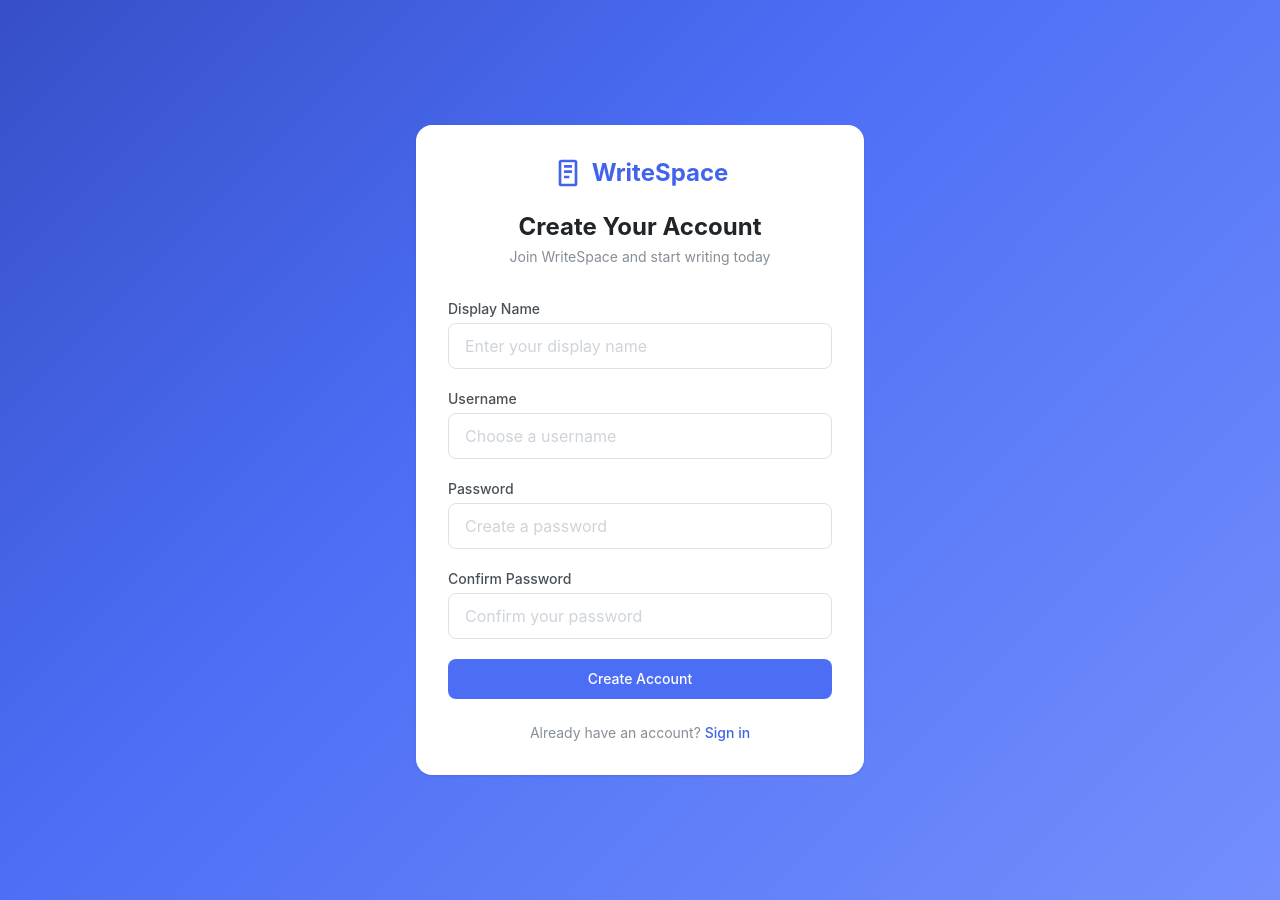
Test case: RegisterPage › validation errors › displays a generic error when registration returns no error string
In the field labelled "Display Name": {"x": 640, "y": 346} [448,323,832,369], type "Bob"
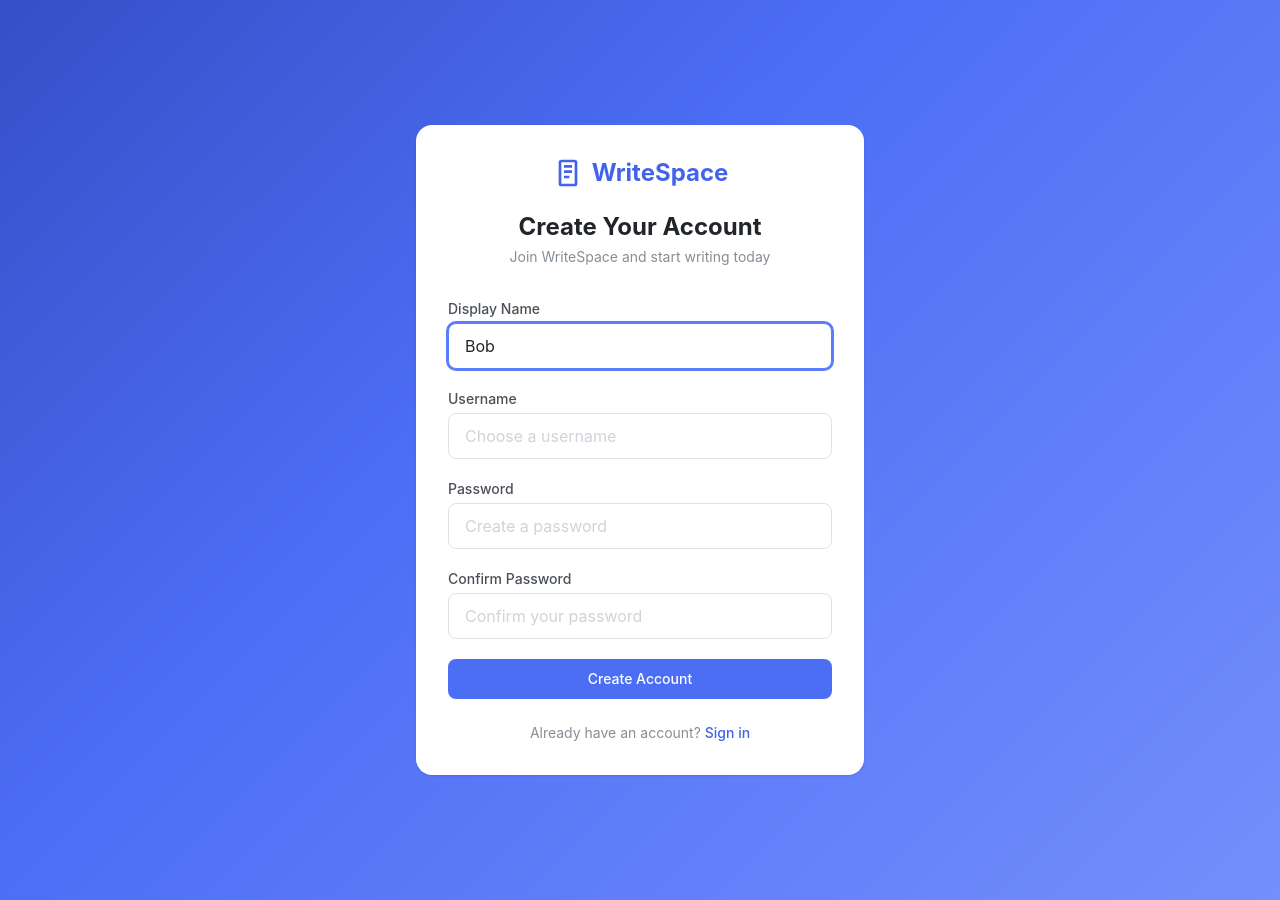
In the field labelled "Username": {"x": 640, "y": 436} [448,413,832,459], type "bob"
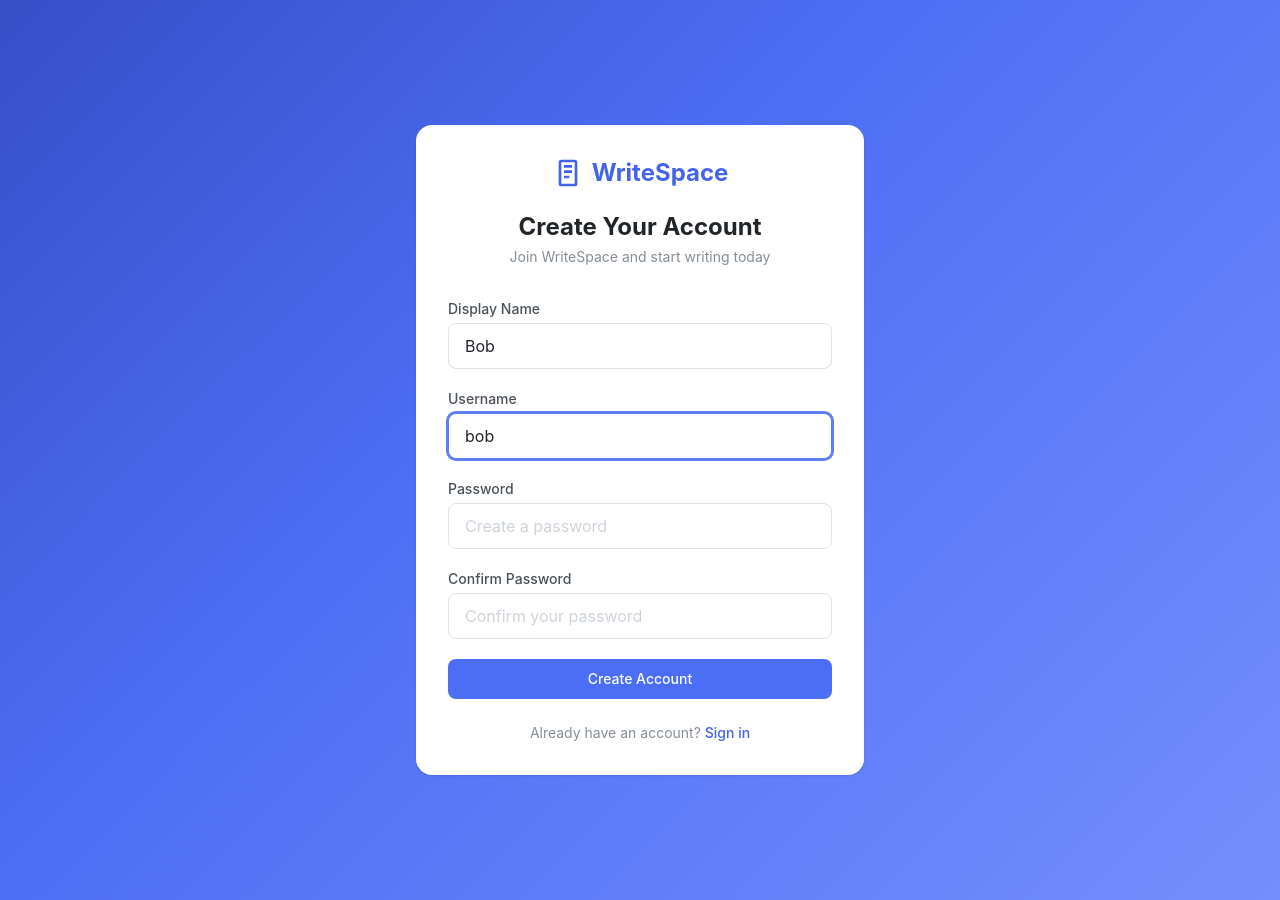
In the password field labelled "Password": {"x": 640, "y": 526} [448,503,832,549], type "password123"
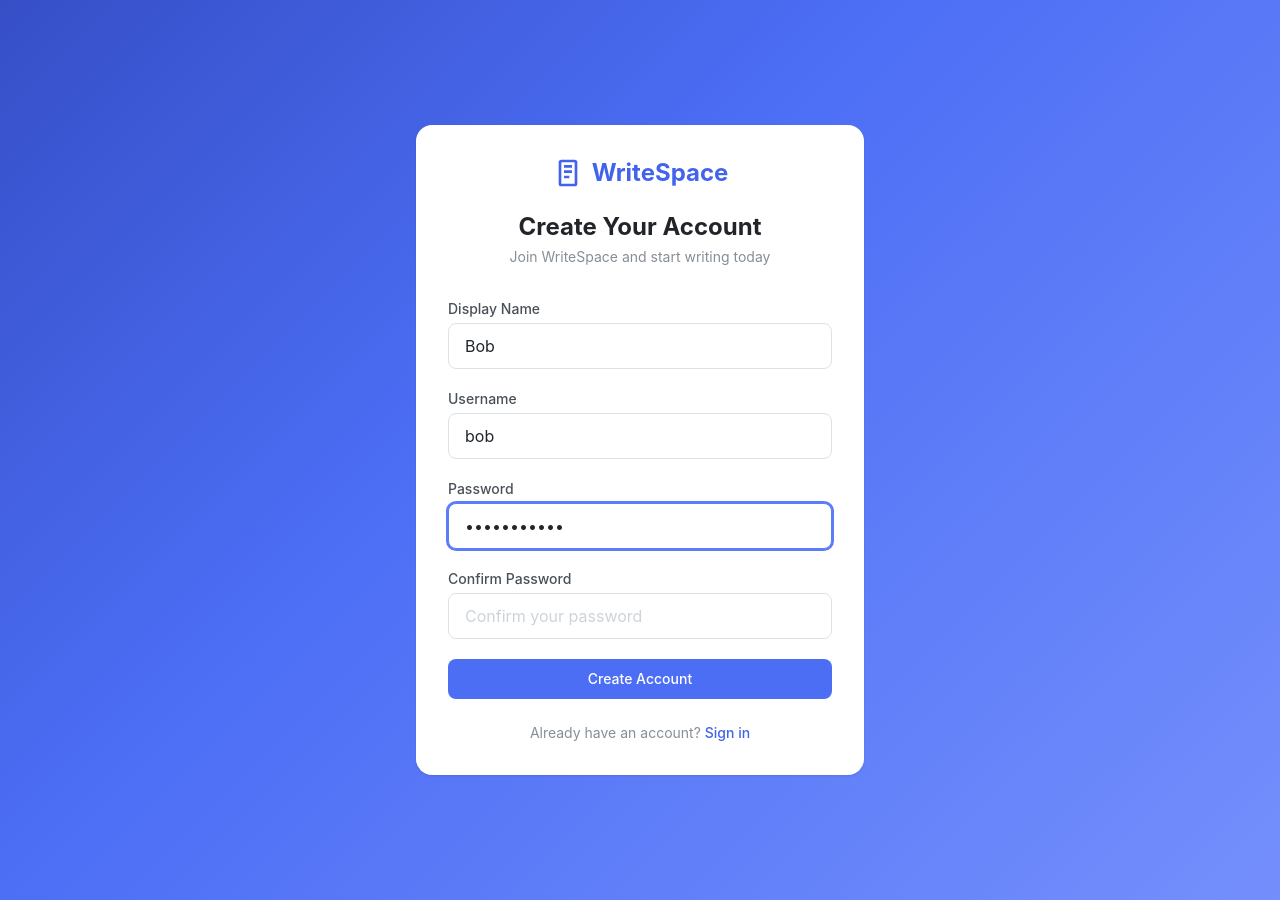
In the password field labelled "Confirm Password": {"x": 640, "y": 616} [448,593,832,639], type "password123"
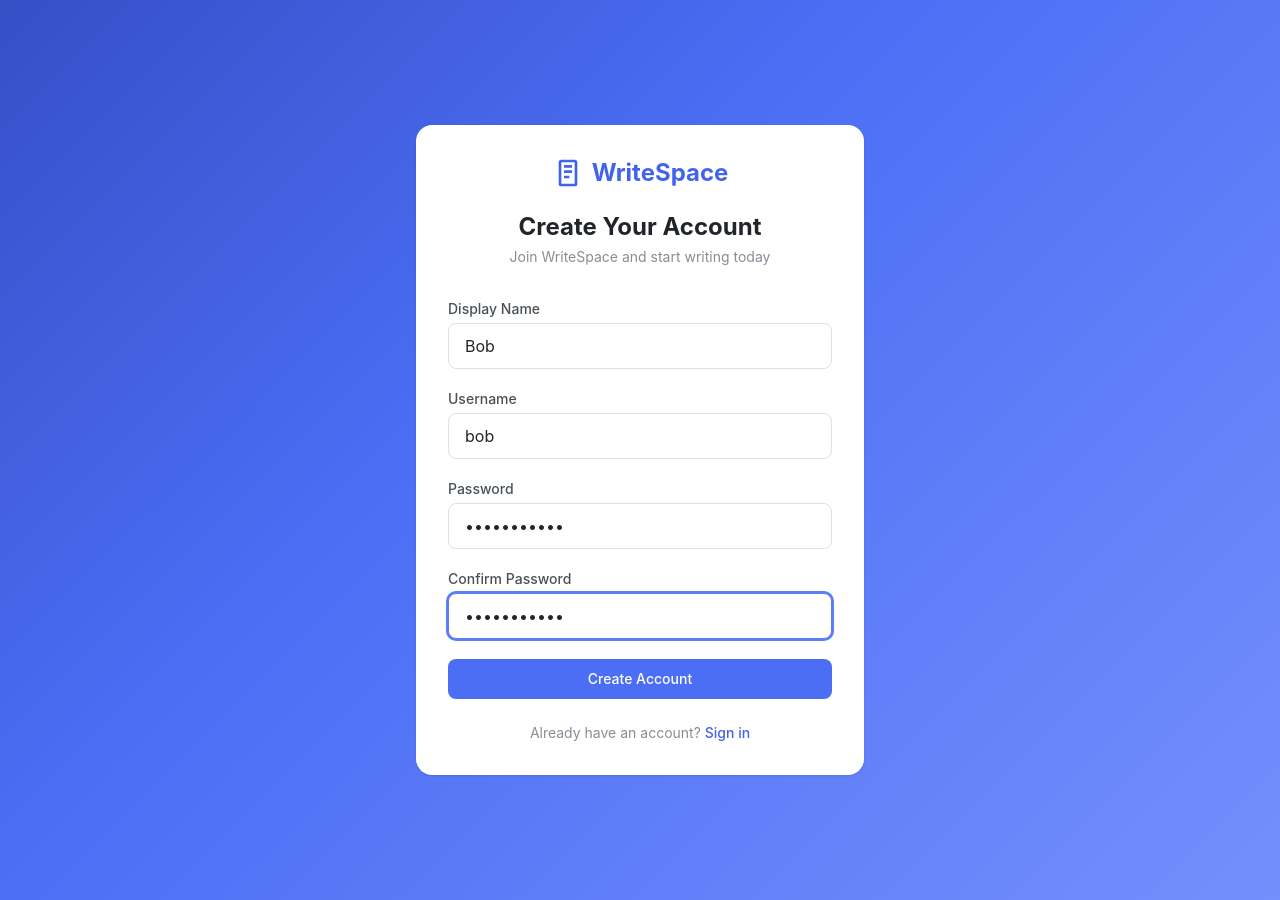
Click the button "Create Account": {"x": 640, "y": 679} [448,659,832,699]
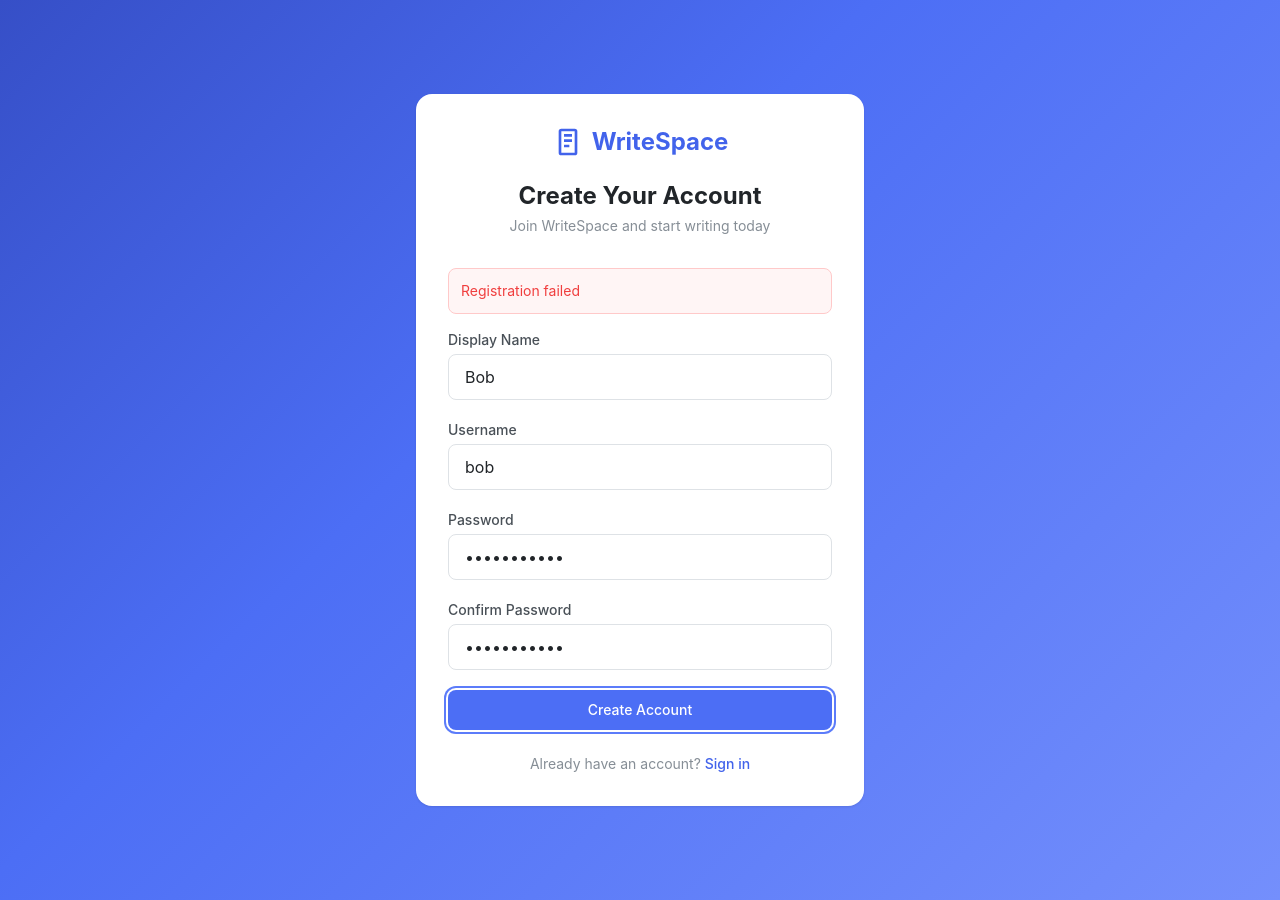
Check: the message reads "Registration failed", box [461,282,580,299]
